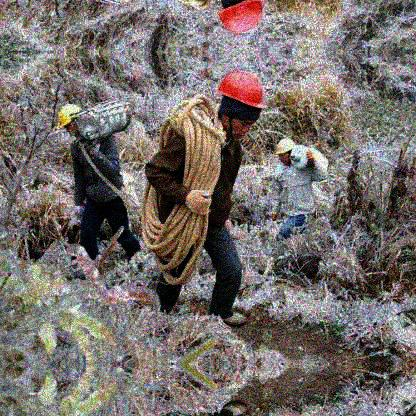helmet: (217, 72, 266, 143), (57, 103, 83, 135), (275, 137, 296, 166)
